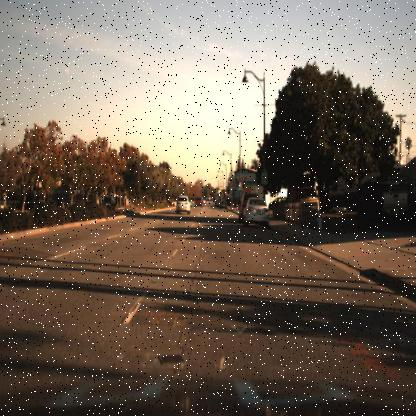car: (243, 198, 271, 230), (174, 193, 193, 219), (236, 192, 248, 226), (100, 193, 118, 214), (192, 191, 206, 209), (221, 199, 227, 210)
